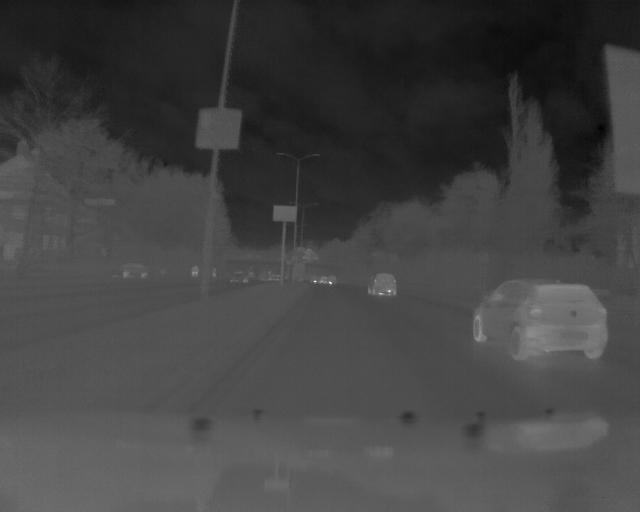car: (472, 274, 612, 362), (366, 270, 396, 296)
